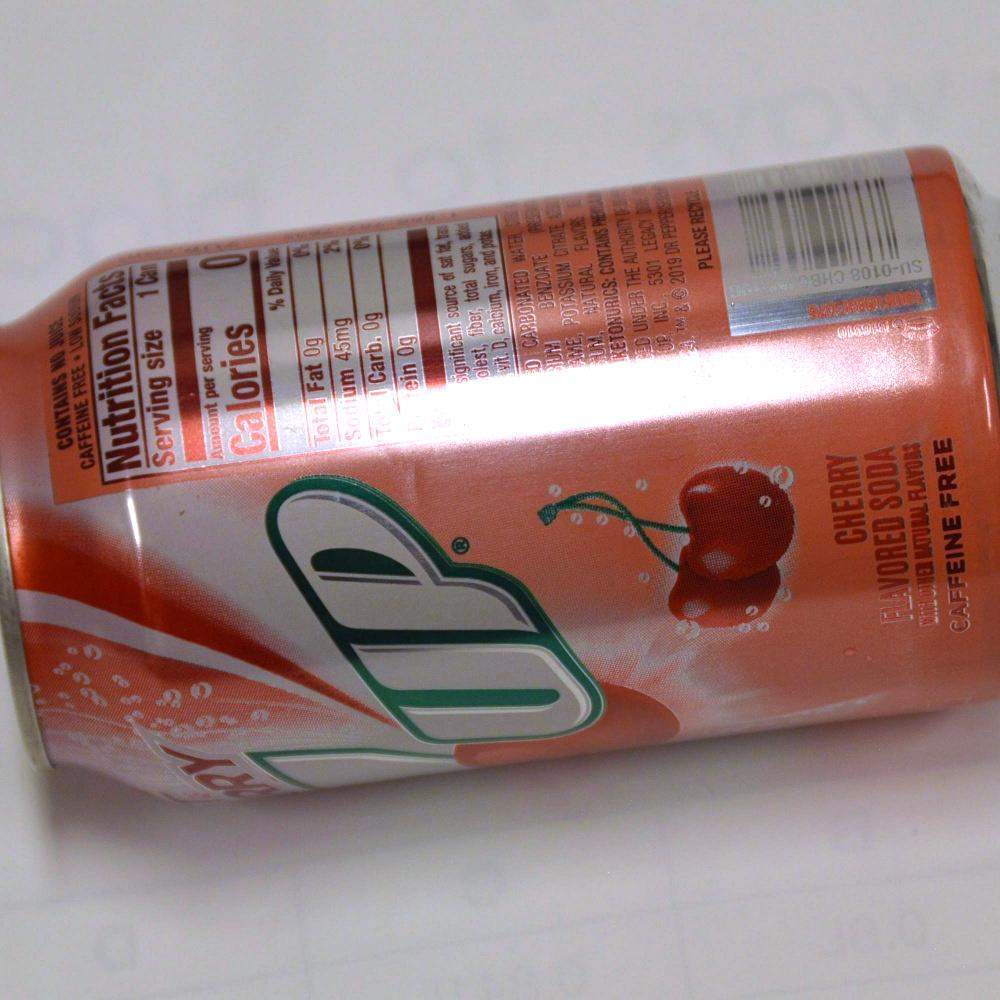Metal: (38, 127, 983, 782)
